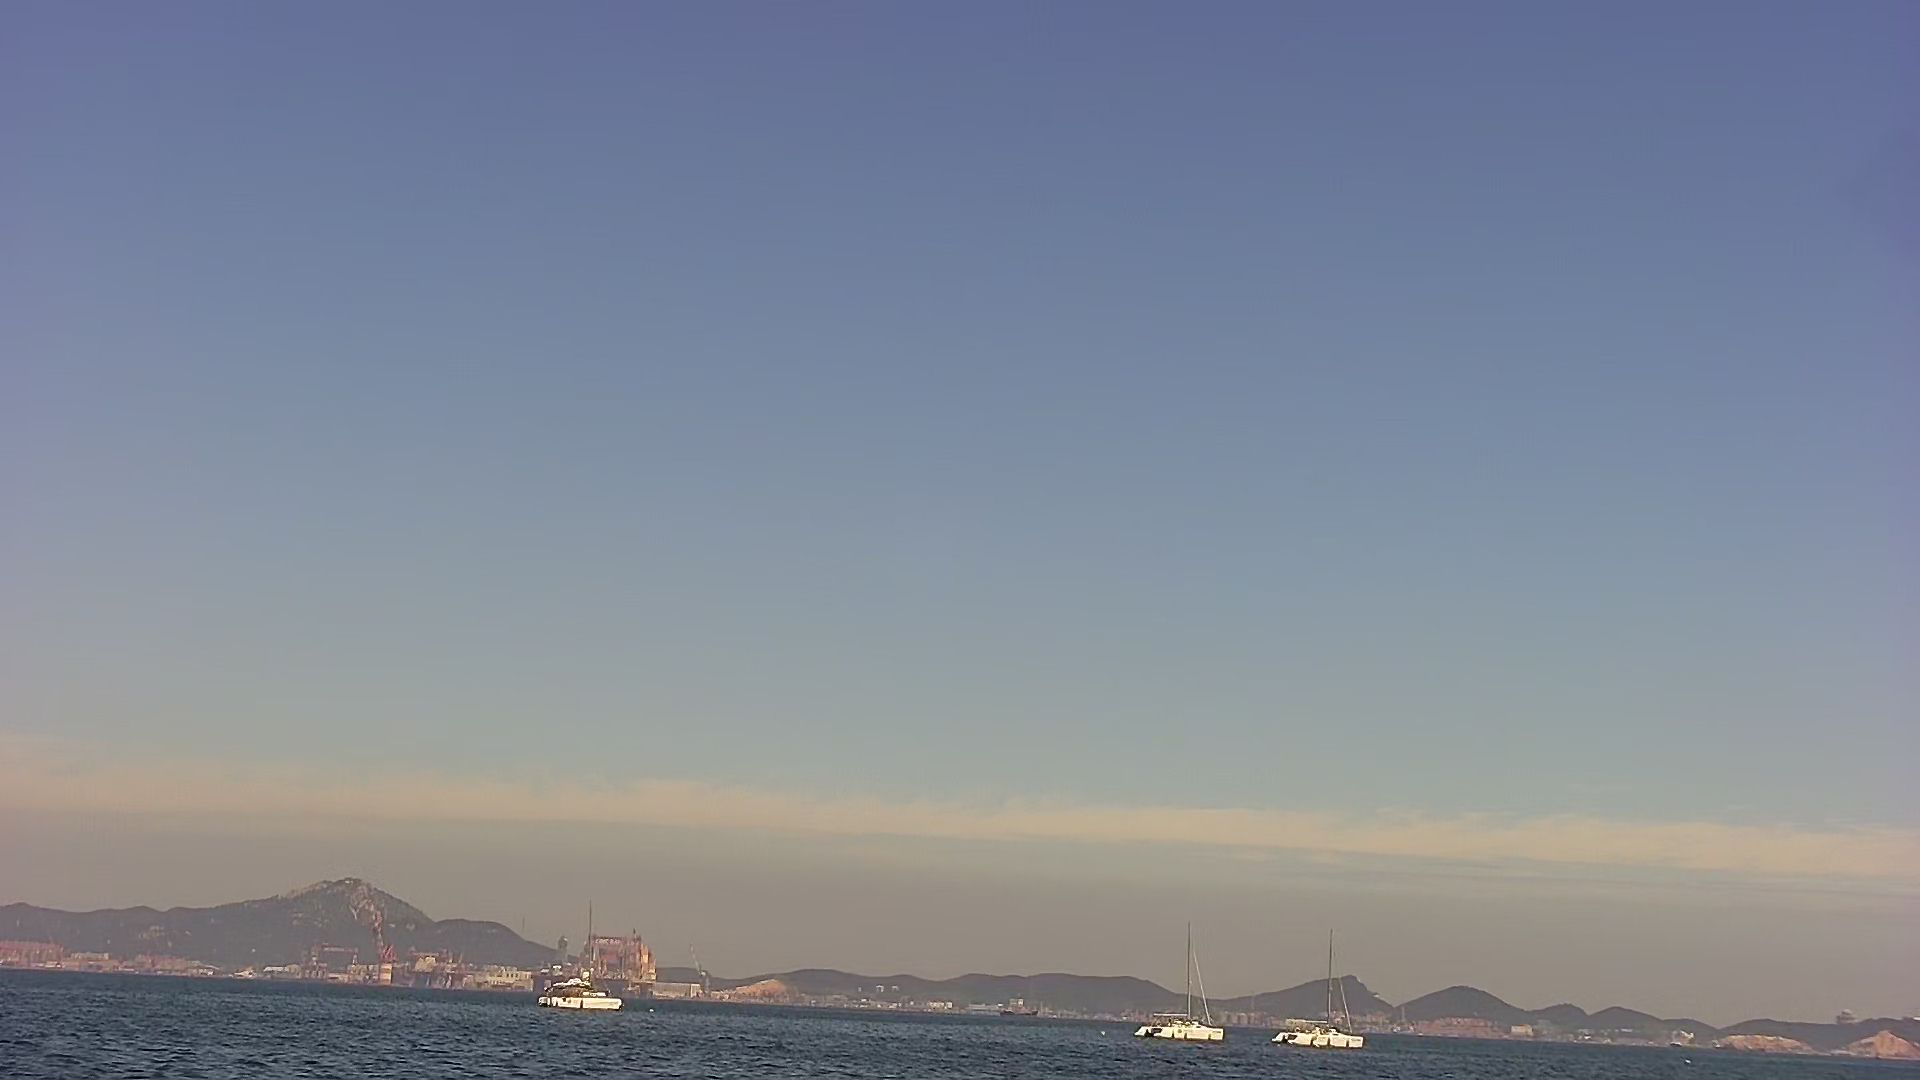boat: (1124, 913, 1240, 1048), (1265, 926, 1382, 1056), (529, 884, 630, 1011), (988, 1000, 1058, 1025)
